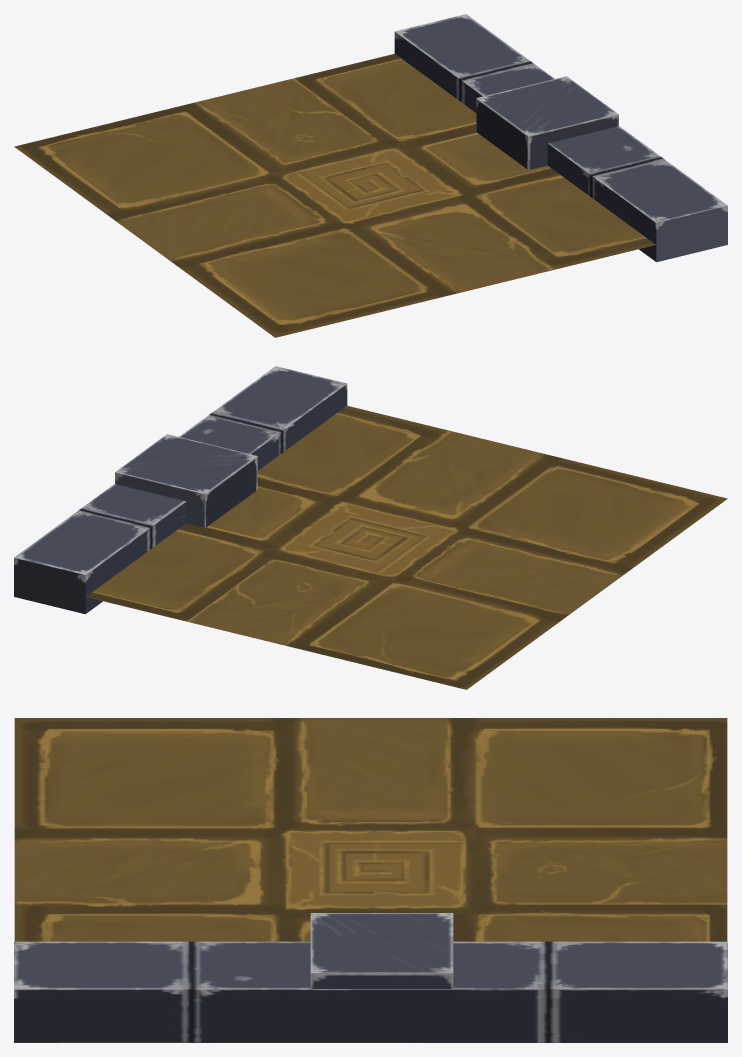
Rendered from Side Path.FBX.
The picture shows the model from 3 angles, top to bottom: view 1: azimuth 30°, elevation 25°; view 2: azimuth 150°, elevation 25°; view 3: azimuth 270°, elevation 25°; orthographic projection. The views are drawn at different scales.
Parts seen in each view (by area): view 1: path_side; view 2: path_side; view 3: path_side.
Part boxes in pixels (<box>): path_side: <box>14,14,727,337</box>; path_side: <box>14,366,727,689</box>; path_side: <box>14,718,727,1042</box>.
Bounding box in the file's own units: 50 × 5.38 × 50.08.
